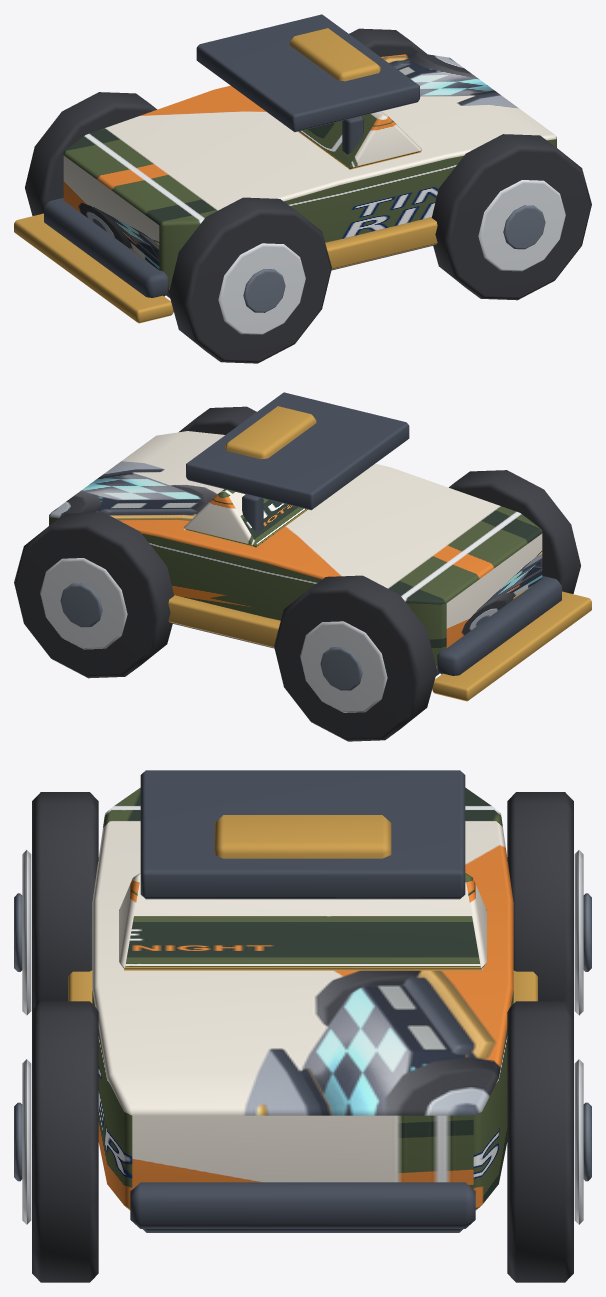
The picture shows the model from 3 angles, top to bottom: view 1: azimuth 30°, elevation 25°; view 2: azimuth 150°, elevation 25°; view 3: azimuth 270°, elevation 25°; orthographic projection. The views are drawn at different scales.
Parts seen in each view (by area): view 1: DP-03_connected_shell, Tire, Tire.002, cage top, Tire.001, Rim, Rim.002, custom chin, front bumper, DP-03_cabin, custom side guard, custom equipment (+4 smaller); view 2: DP-03_connected_shell, Tire.001, Tire.003, cage top, Tire, Rim.001, Rim.003, custom chin, front bumper, DP-03_cabin, custom side guard.001, custom equipment (+4 smaller); view 3: DP-03_connected_shell, cage top, DP-03_cabin, Tire.002, Tire.003, rear bumper, Tire, Tire.001, custom equipment, Rim.002, Rim.003, Rim (+8 smaller).
Part boxes in pixels (left/top/right/bottom): DP-03_connected_shell: left=63, top=53, right=556, bottom=289; Tire: left=169, top=197, right=331, bottom=363; Tire.002: left=431, top=134, right=591, bottom=300; cage top: left=196, top=14, right=419, bottom=132; Tire.001: left=25, top=92, right=156, bottom=215; Rim: left=218, top=243, right=305, bottom=334; Rim.002: left=478, top=180, right=565, bottom=271; custom chin: left=14, top=213, right=173, bottom=323; front bumper: left=44, top=198, right=169, bottom=297; DP-03_cabin: left=298, top=111, right=421, bottom=169; custom side guard: left=325, top=217, right=437, bottom=269; custom equipment: left=289, top=28, right=380, bottom=81; DP-03_connected_shell: left=49, top=431, right=542, bottom=667; Tire.001: left=274, top=575, right=436, bottom=741; Tire.003: left=14, top=512, right=174, bottom=678; cage top: left=186, top=392, right=409, bottom=510; Tire: left=449, top=470, right=580, bottom=593; Rim.001: left=300, top=621, right=387, bottom=712; Rim.003: left=40, top=558, right=127, bottom=649; custom chin: left=432, top=591, right=591, bottom=701; front bumper: left=436, top=576, right=561, bottom=675; DP-03_cabin: left=184, top=489, right=307, bottom=547; custom side guard.001: left=168, top=595, right=280, bottom=647; custom equipment: left=225, top=406, right=316, bottom=459; DP-03_connected_shell: left=92, top=787, right=513, bottom=1210; cage top: left=140, top=770, right=465, bottom=899; DP-03_cabin: left=119, top=873, right=486, bottom=970; Tire.002: left=32, top=1001, right=98, bottom=1282; Tire.003: left=507, top=1001, right=573, bottom=1282; rear bumper: left=130, top=1182, right=475, bottom=1228; Tire: left=32, top=792, right=98, bottom=1009; Tire.001: left=507, top=792, right=573, bottom=1009; custom equipment: left=214, top=815, right=391, bottom=858; Rim.002: left=22, top=1059, right=31, bottom=1224; Rim.003: left=574, top=1059, right=583, bottom=1224; Rim: left=22, top=850, right=31, bottom=1015.
Bounding box in the file's own units: 329 × 154 × 225.
